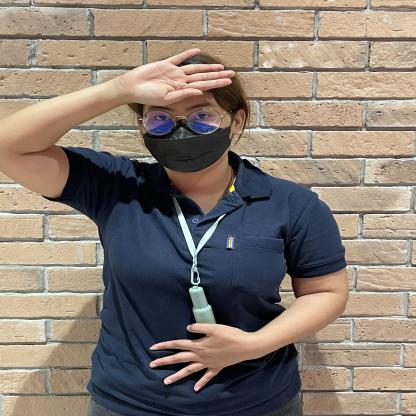Sick: (88, 25, 254, 109)
